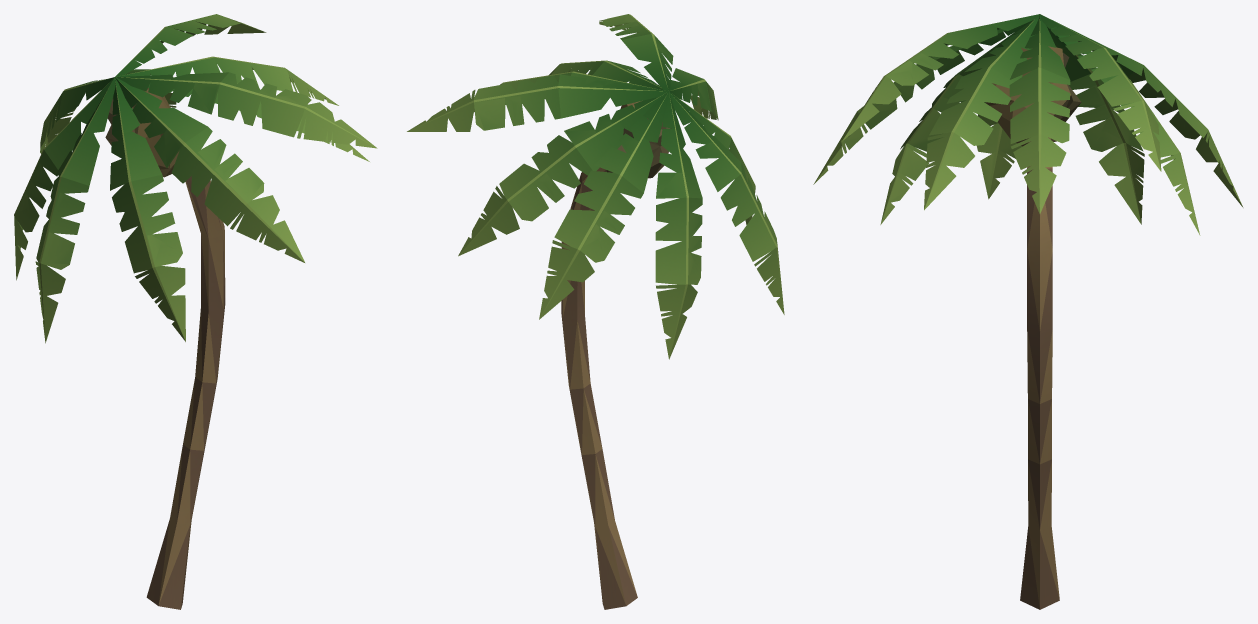
File: Tree_3.fbx
The picture shows the model from 3 angles, left to right: view 1: azimuth 30°, elevation 25°; view 2: azimuth 150°, elevation 25°; view 3: azimuth 270°, elevation 25°; orthographic projection. The views are drawn at different scales.
Parts seen in each view (by area): view 1: polySurface538; view 2: polySurface538; view 3: polySurface538.
Boxes of the visible parts, x1,y1,x2,y2 form: polySurface538: (14, 14, 377, 609); polySurface538: (407, 14, 784, 609); polySurface538: (813, 14, 1243, 609).
Bounding box in the file's own units: 988 × 1642 × 1116.
